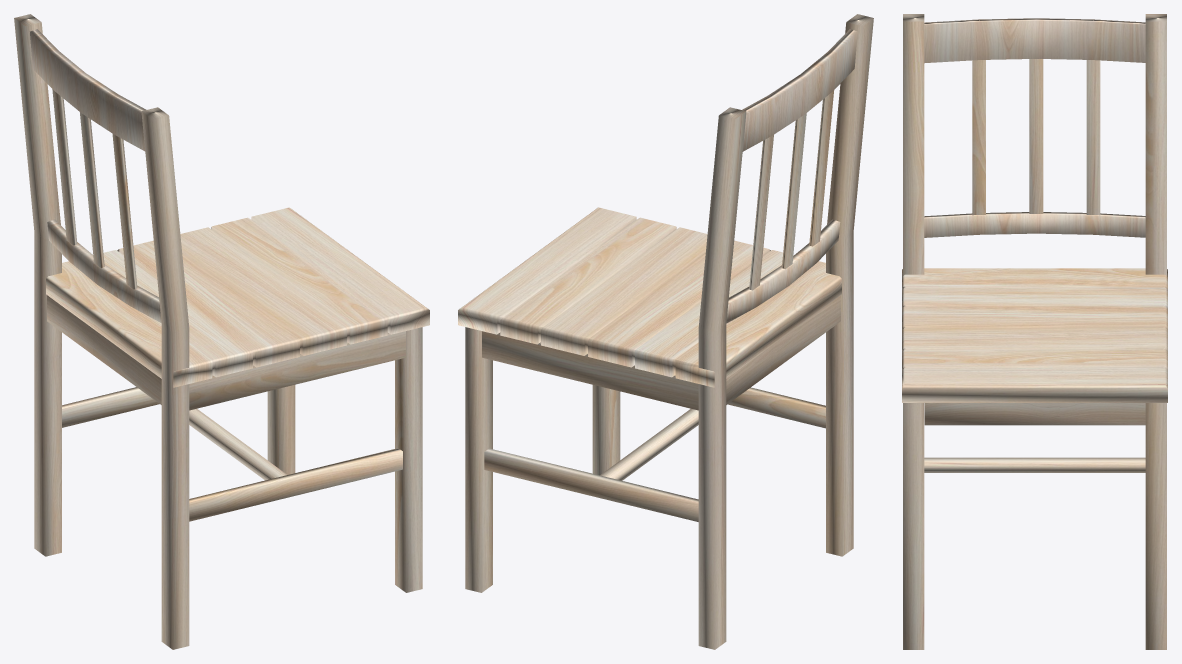
Rendered from chair.fbx.
3 views of the same model, side by side, from view 1: azimuth 30°, elevation 25°; view 2: azimuth 150°, elevation 25°; view 3: azimuth 270°, elevation 25° (orthographic). The views are drawn at different scales.
Visible parts, largest first — view 1: study_chair; view 2: study_chair; view 3: study_chair.
Part boxes in pixels (x1,y1,x2,y2): study_chair: [14, 14, 429, 649]; study_chair: [458, 14, 873, 649]; study_chair: [902, 14, 1167, 649].
Size of the model in its own units: 0.4772 by 0.868 by 0.4095.
Materials: 1 (1 with a texture image).
